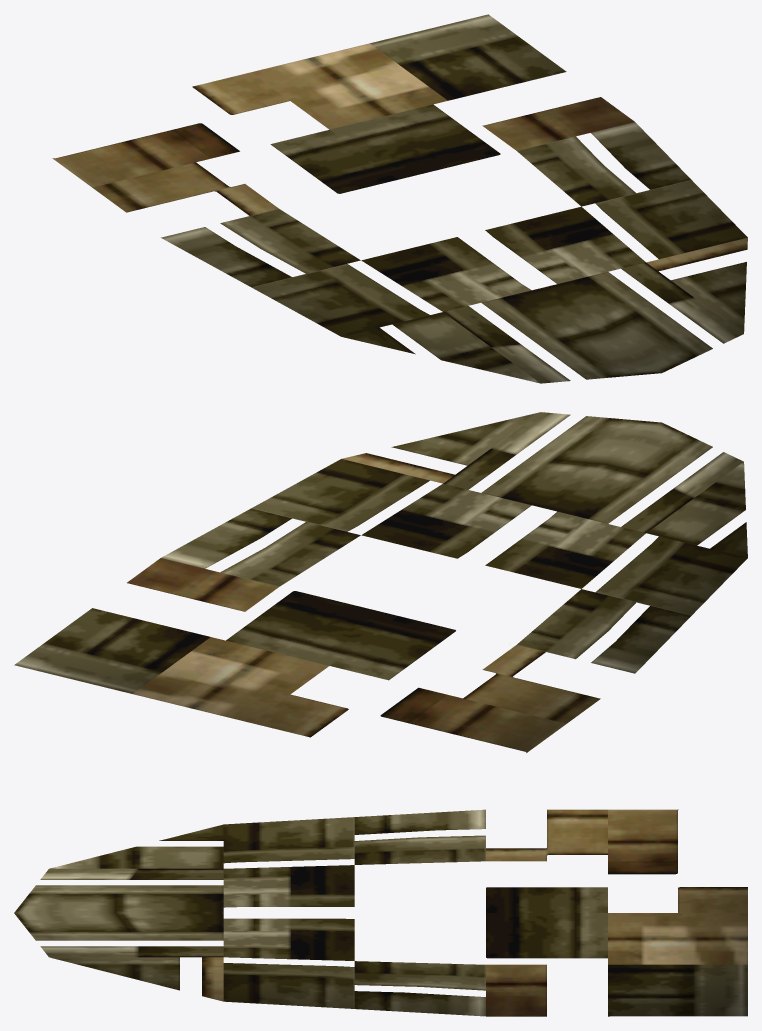
3 renders of one model, top to bottom at view 1: azimuth 30°, elevation 25°; view 2: azimuth 150°, elevation 25°; view 3: azimuth 270°, elevation 25°, orthographic. The views are drawn at different scales.
Parts seen in each view (by area): view 1: T1L2M003_7; view 2: T1L2M003_7; view 3: T1L2M003_7.
Boxes of the visible parts, x1,y1,x2,y2 form: T1L2M003_7: [52, 14, 747, 383]; T1L2M003_7: [14, 412, 747, 752]; T1L2M003_7: [14, 809, 747, 1016].
Size of the model in its own units: 2.8 by 0.000977 by 4.2.
